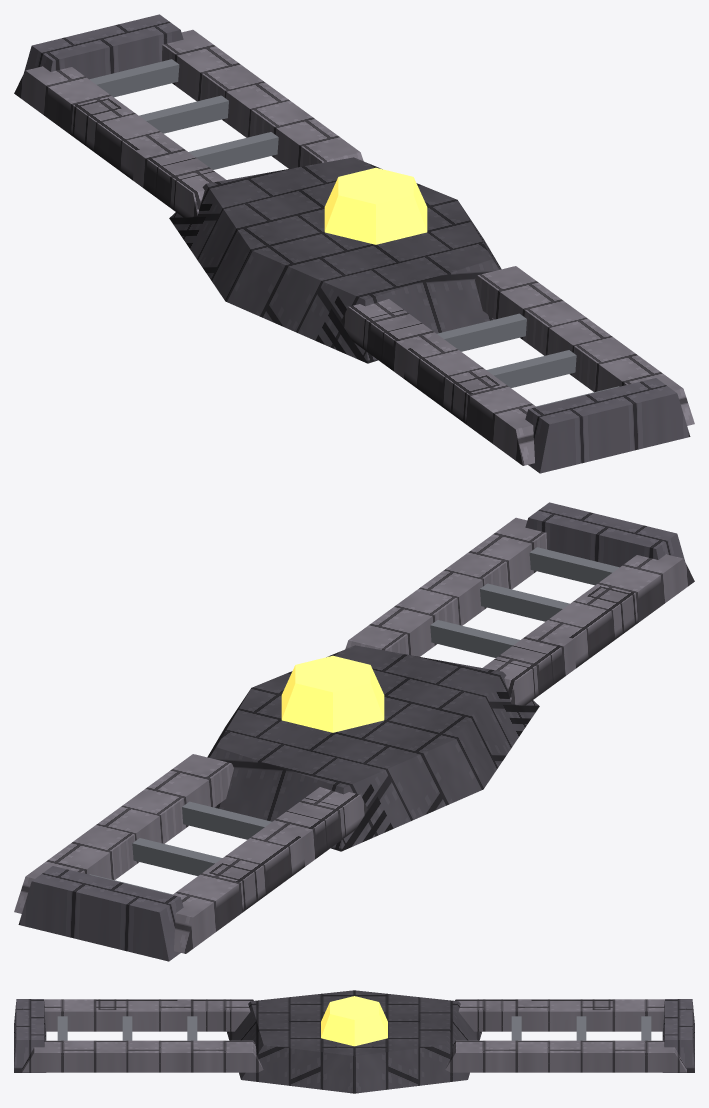
File: loom_ember.glb
The picture shows the model from 3 angles, top to bottom: view 1: azimuth 30°, elevation 25°; view 2: azimuth 150°, elevation 25°; view 3: azimuth 270°, elevation 25°; orthographic projection. The views are drawn at different scales.
Size of the model in its own units: 24 by 7 by 84.
6 materials, 4 textured.
